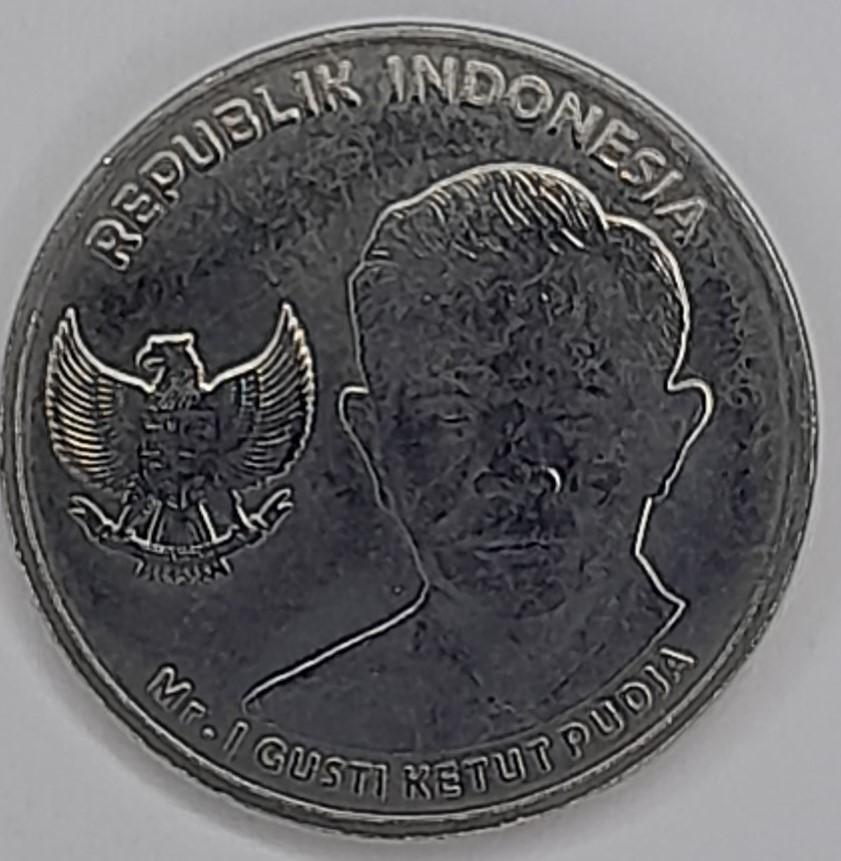coin_1000_e2016: (14, 17, 830, 861)
